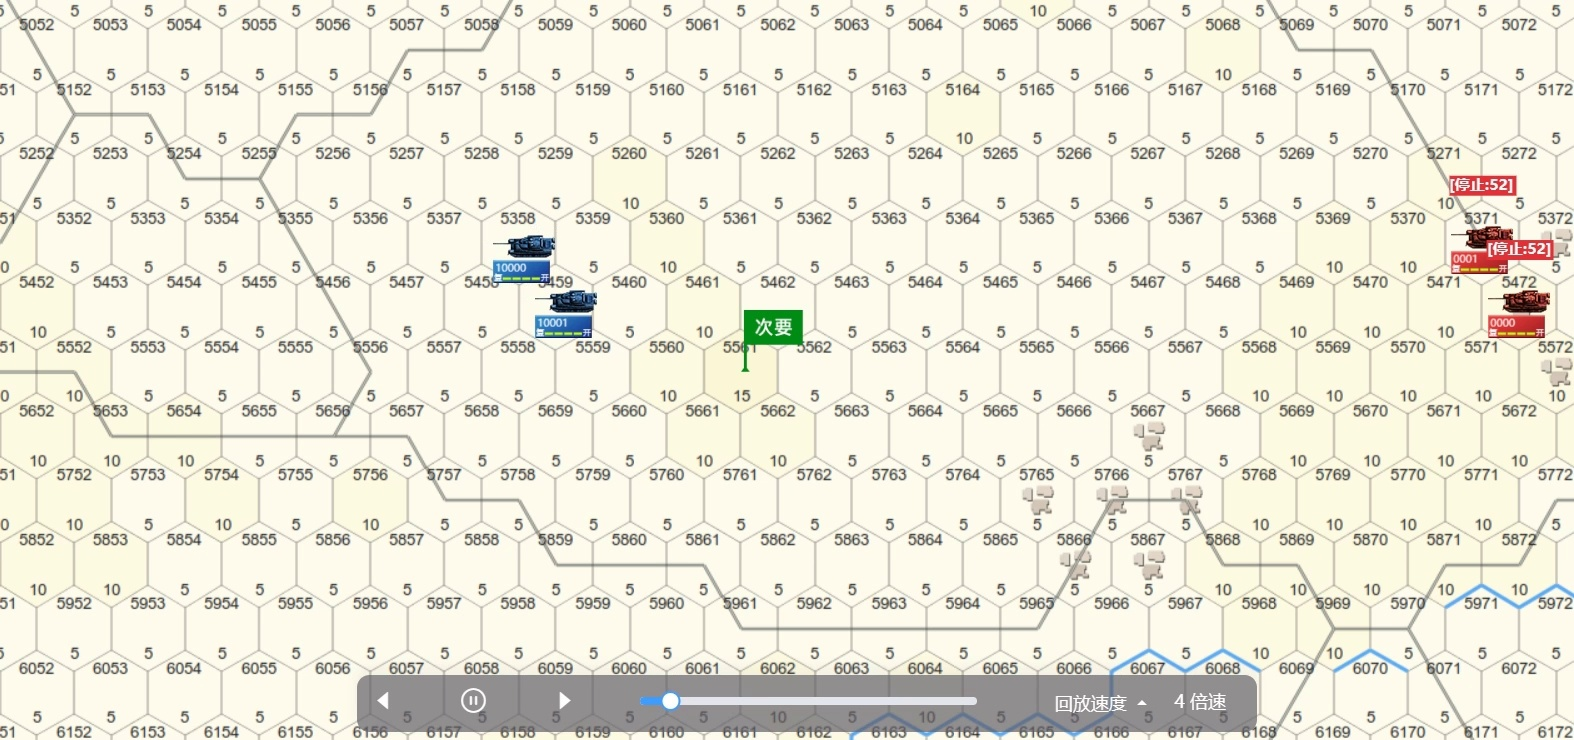blue_tank: (536, 291, 600, 337), (500, 236, 557, 285)
red_tank: (1454, 225, 1514, 274), (1485, 295, 1550, 340)
